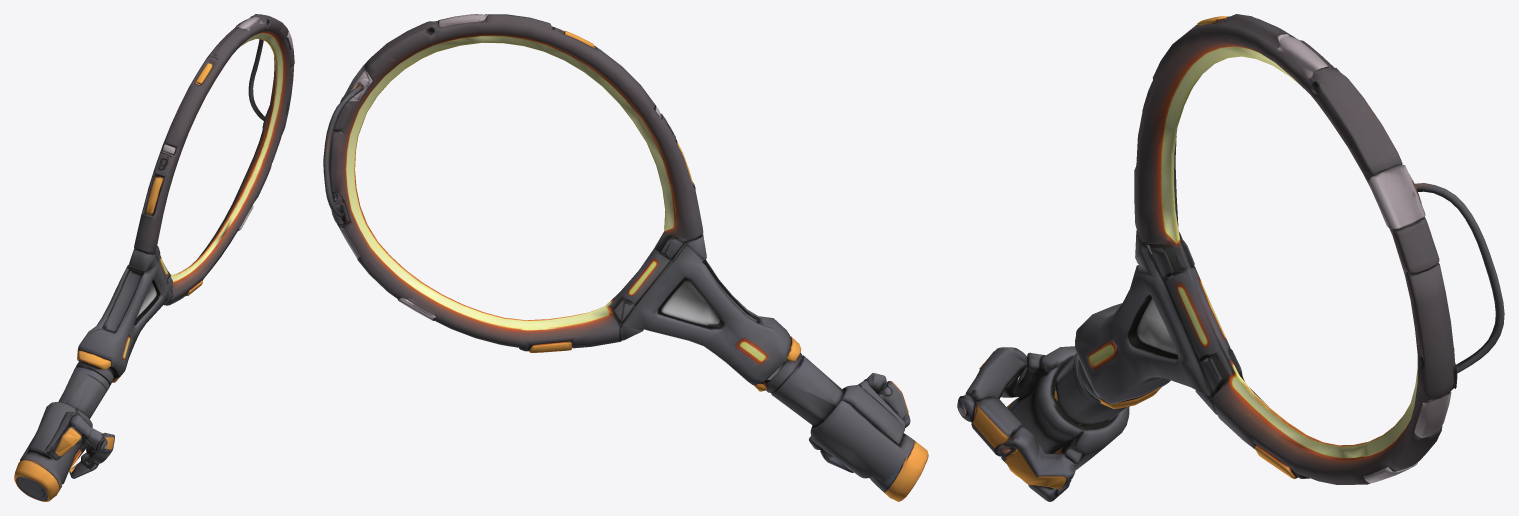
The model's file is RacketPlayer.glb.
3 views of the same model, side by side, from view 1: azimuth 30°, elevation 25°; view 2: azimuth 150°, elevation 25°; view 3: azimuth 270°, elevation 25° (orthographic). The views are drawn at different scales.
Parts seen in each view (by area): view 1: tripo_node_112d937b-42eb-410b-b0ff-268e7363212d; view 2: tripo_node_112d937b-42eb-410b-b0ff-268e7363212d; view 3: tripo_node_112d937b-42eb-410b-b0ff-268e7363212d.
Boxes of the visible parts, x1,y1,x2,y2 form: tripo_node_112d937b-42eb-410b-b0ff-268e7363212d: [14, 14, 294, 501]; tripo_node_112d937b-42eb-410b-b0ff-268e7363212d: [323, 14, 928, 501]; tripo_node_112d937b-42eb-410b-b0ff-268e7363212d: [957, 14, 1504, 501].
Bounding box in the file's own units: 0.9995 × 0.9312 × 0.6675.
Materials: 1 (1 with a texture image).
